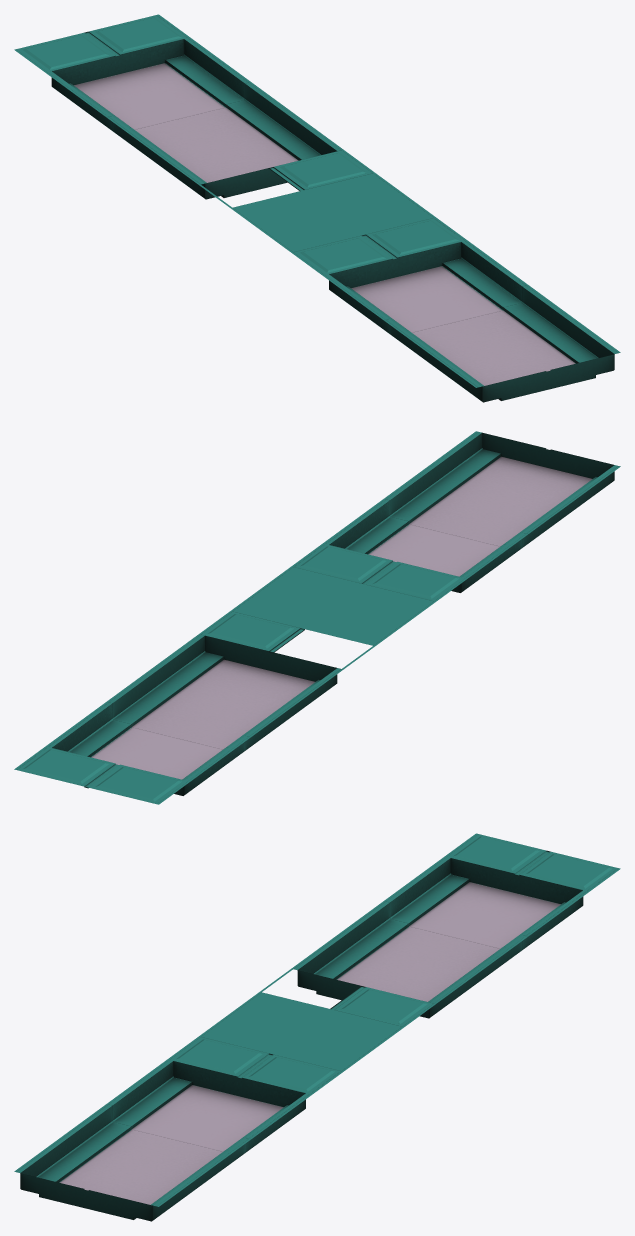
File: sc_lvl1_floortile_14.FBX
The picture shows the model from 3 angles, top to bottom: view 1: azimuth 30°, elevation 25°; view 2: azimuth 150°, elevation 25°; view 3: azimuth 330°, elevation 25°; orthographic projection.
Visible parts, largest first — view 1: sc_lvl1_floortile_14; view 2: sc_lvl1_floortile_14; view 3: sc_lvl1_floortile_14.
Part boxes in pixels (bbox=[...]): sc_lvl1_floortile_14: bbox=[14, 14, 620, 402]; sc_lvl1_floortile_14: bbox=[14, 431, 620, 804]; sc_lvl1_floortile_14: bbox=[14, 833, 620, 1221].
Size of the model in its own units: 18.1 by 2.43 by 100.
